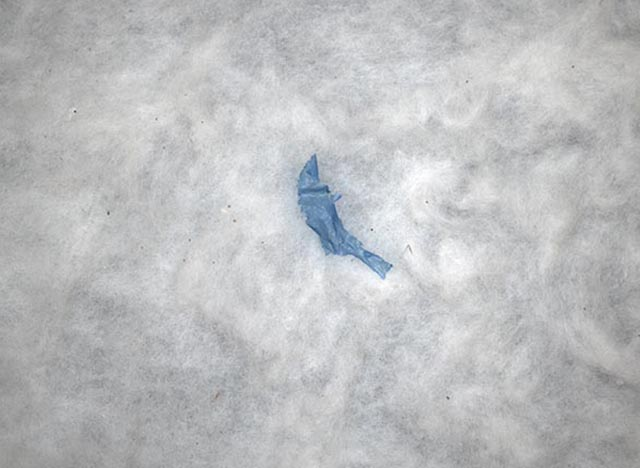plastic film: (296, 152, 393, 280)
